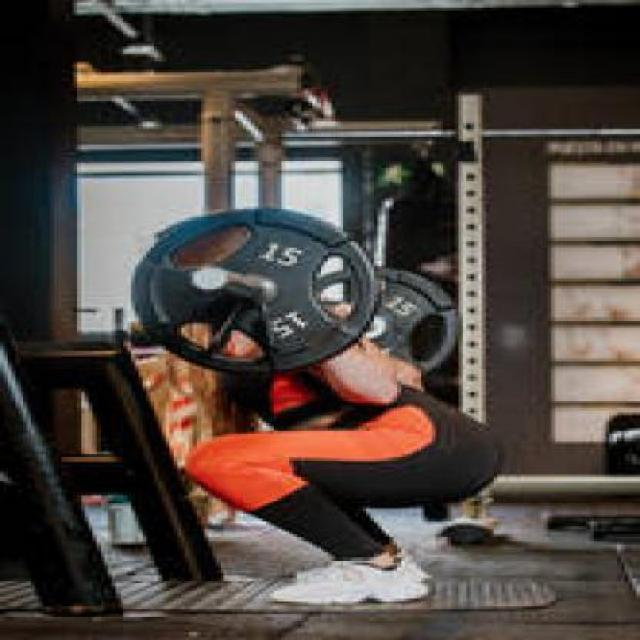Barbell: (186, 252, 240, 297)
